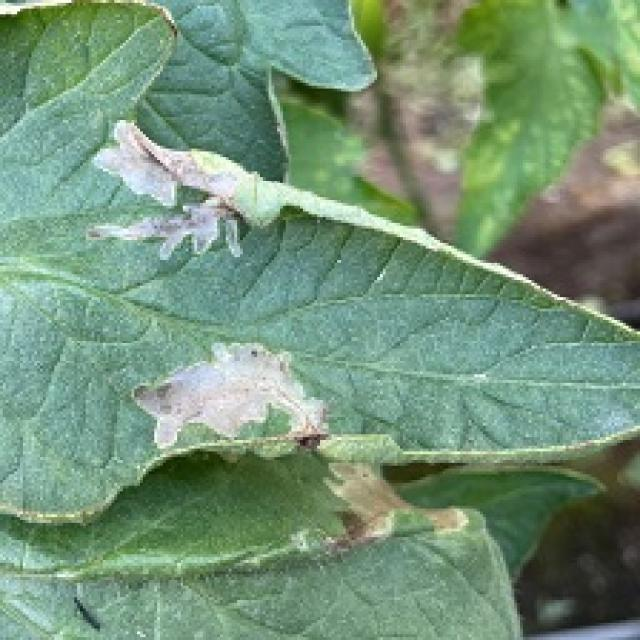Tuta absoluta: (73, 115, 266, 279), (308, 451, 469, 577), (134, 343, 323, 446)
